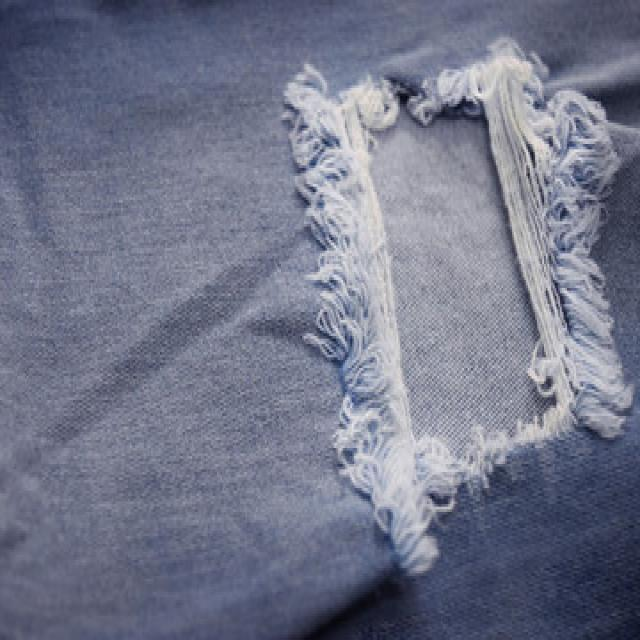Hole: (283, 37, 637, 578)
